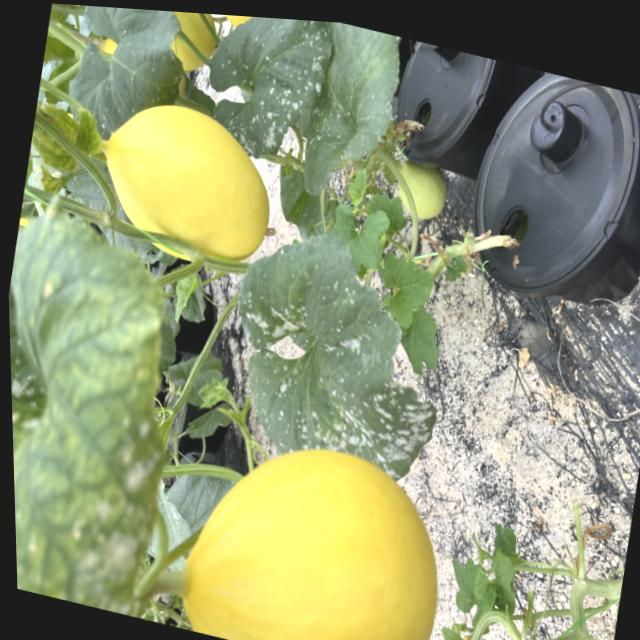healthy: (56, 4, 204, 160)
powdery mildew: (5, 173, 215, 623), (207, 208, 466, 504), (189, 13, 344, 176), (291, 19, 414, 213)
